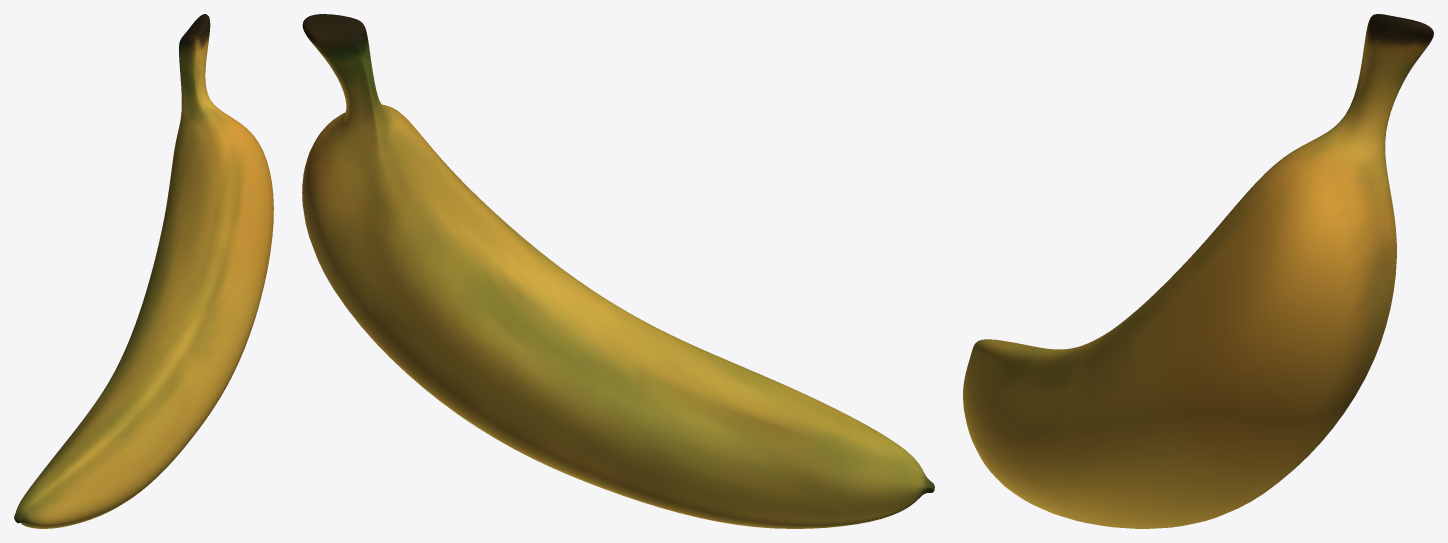
File: banana2.glb
The picture shows the model from 3 angles, left to right: view 1: azimuth 30°, elevation 25°; view 2: azimuth 150°, elevation 25°; view 3: azimuth 270°, elevation 25°; orthographic projection. The views are drawn at different scales.
Visible parts, largest first — view 1: Ban1; view 2: Ban1; view 3: Ban1.
Boxes of the visible parts, left/top/right/bottom form: Ban1: left=14, top=14, right=273, bottom=528; Ban1: left=302, top=14, right=934, bottom=528; Ban1: left=963, top=14, right=1433, bottom=528.
Bounding box in the file's own units: 2.41 × 2.51 × 1.62.
